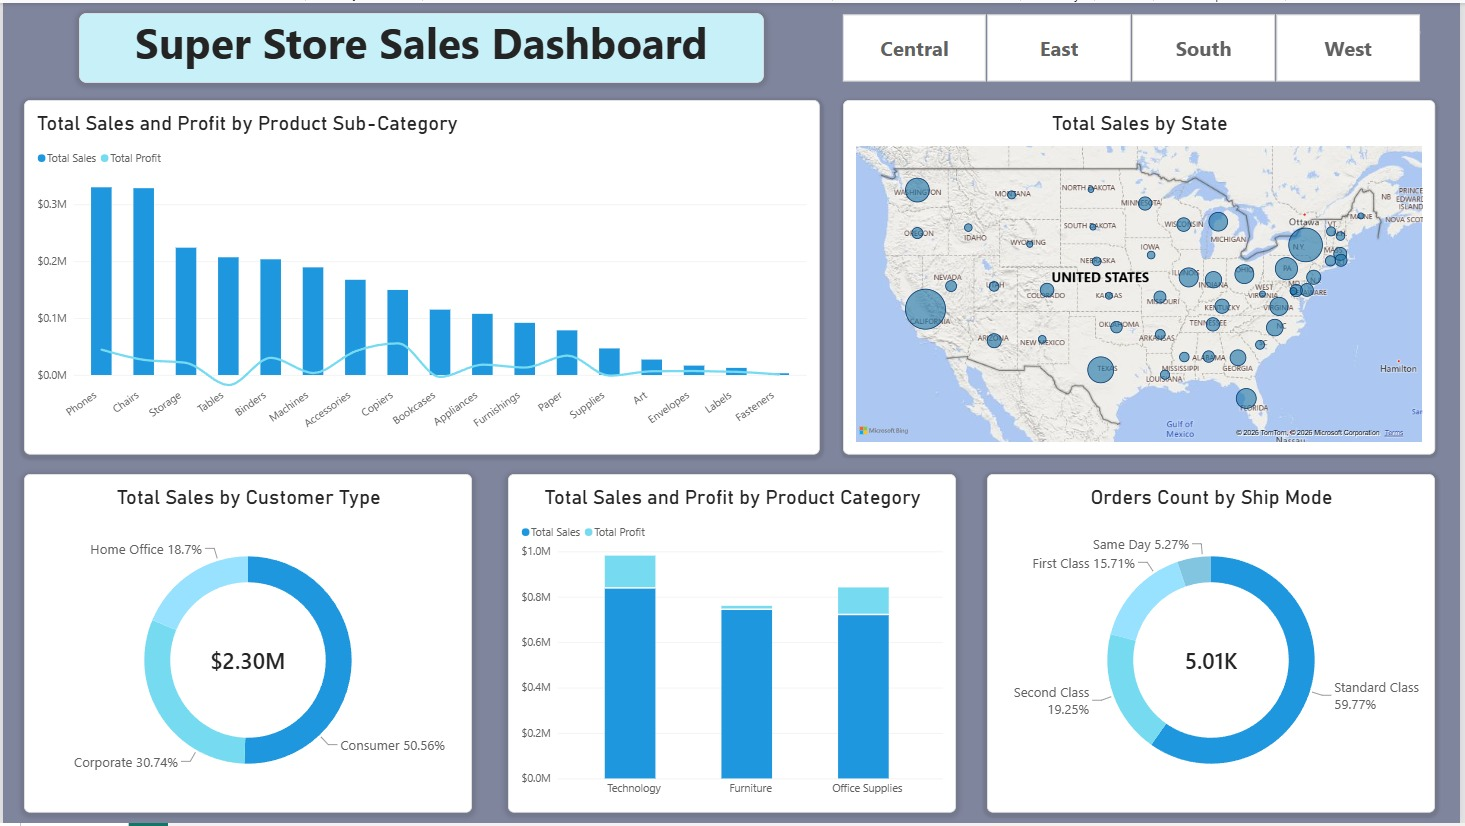

This screenshot's page, from the dashboard's own definition file:
{"tool":"powerbi","page":{"name":"Sales","canvas":[1920,1080],"ordinal":0},"visuals":[{"type":"donutChart","title":"Total Sales by Customer Type","fields":{"Category":["DimCustomer.Segment","FactSales.Ship Mode"],"Y":["_Measures.Total Sales"]},"box":[27.2,619.8,590,446],"z":0},{"type":"textbox","box":[100.1,13.2,902.2,92.2],"z":1000},{"type":"lineStackedColumnComboChart","title":"Total Sales and Profit by Product Category","fields":{"Category":["DimProduct.Category"],"Y":["_Measures.Total Sales","_Measures.Total Profit"]},"box":[665.2,619.8,590,446],"z":2000},{"type":"lineStackedColumnComboChart","title":"Total Sales and Profit by Product Sub-Category","fields":{"Category":["DimProduct.Sub-Category"],"Y":["_Measures.Total Sales"],"Y2":["_Measures.Total Profit"]},"box":[27.7,127.8,1047.7,467.1],"z":3000},{"type":"donutChart","fields":{"Category":["FactSales.Ship Mode"],"Y":["_Measures.Orders Count"]},"box":[1295.6,619.8,590,446],"z":4000},{"type":"map","fields":{"Category":["DimLocation.State"],"Size":["_Measures.Total Sales"]},"box":[1106.3,127.8,780.1,467.1],"z":5000},{"type":"slicer","fields":{"Values":["DimLocation.Region"]},"box":[1085.5,13.6,799.7,92.2],"z":6000}]}

Visuals, with their boxes in screenshot pixels (x1, y1, x2, y2), scaled from the page's 1920x1080 canvas onto the 1465x826 screenshot:
"Total Sales by Customer Type" donutChart: 21/474/471/815
textbox: 76/10/765/81
"Total Sales and Profit by Product Category" lineStackedColumnComboChart: 508/474/958/815
"Total Sales and Profit by Product Sub-Category" lineStackedColumnComboChart: 21/98/821/455
donutChart - FactSales.Ship Mode x _Measures.Orders Count: 989/474/1439/815
map - DimLocation.State x _Measures.Total Sales: 844/98/1439/455
slicer - DimLocation.Region: 828/10/1438/81
